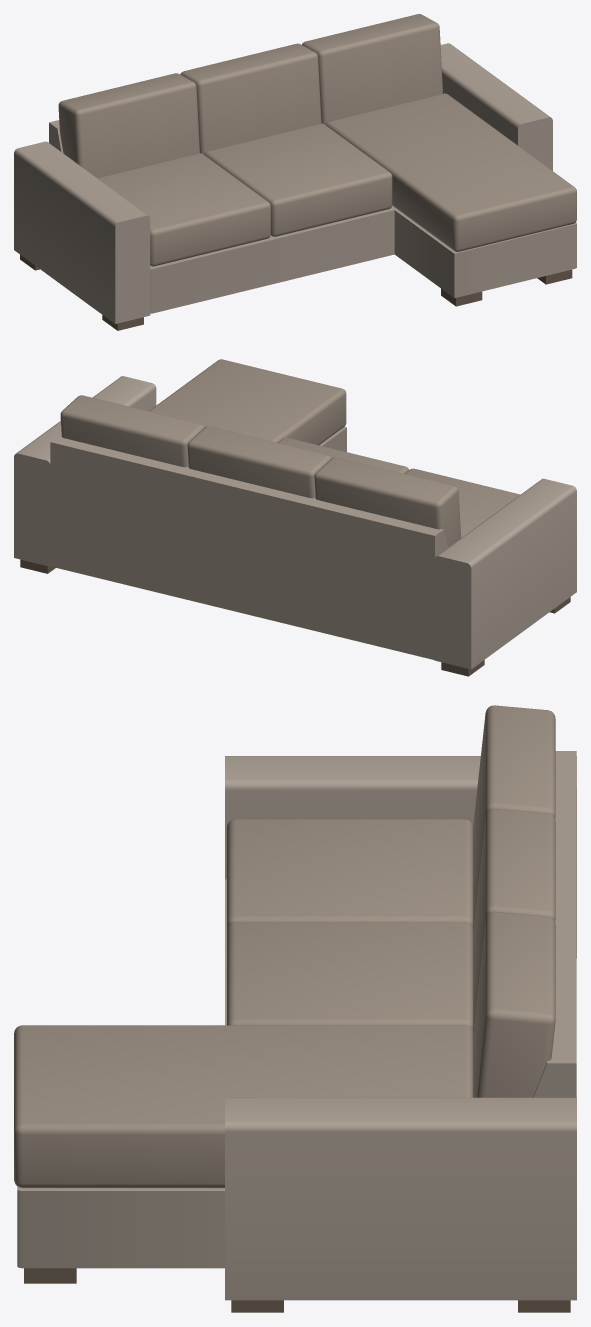
Rendered from Sofa3_C2.fbx.
3 renders of one model, top to bottom at view 1: azimuth 30°, elevation 25°; view 2: azimuth 150°, elevation 25°; view 3: azimuth 270°, elevation 25°, orthographic. The views are drawn at different scales.
Parts seen in each view (by area): view 1: Sofa3_C2; view 2: Sofa3_C2; view 3: Sofa3_C2.
Boxes of the visible parts, <box> form: Sofa3_C2: <box>14,14,576,330</box>; Sofa3_C2: <box>14,359,576,676</box>; Sofa3_C2: <box>14,705,576,1312</box>.
Bounding box in the file's own units: 250 × 85.61 × 160.
